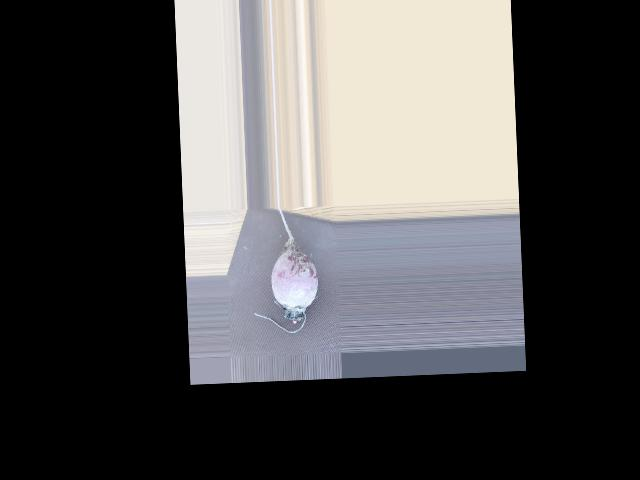beet: (249, 205, 320, 334)
